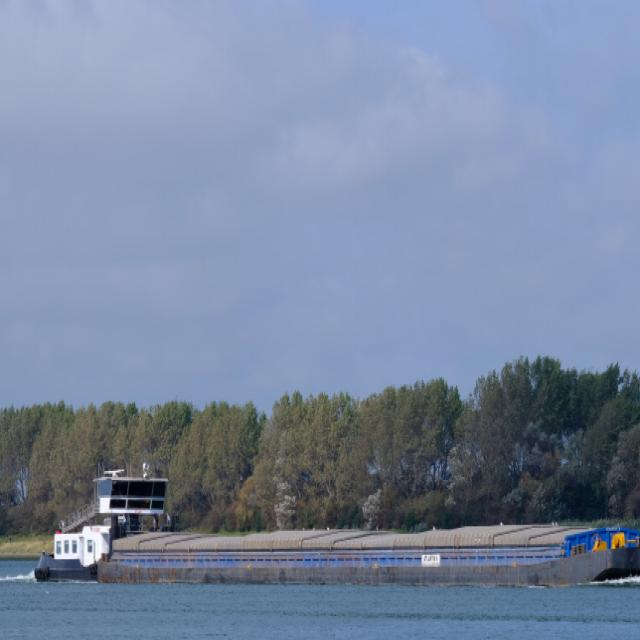tugboat: (31, 459, 180, 592)
